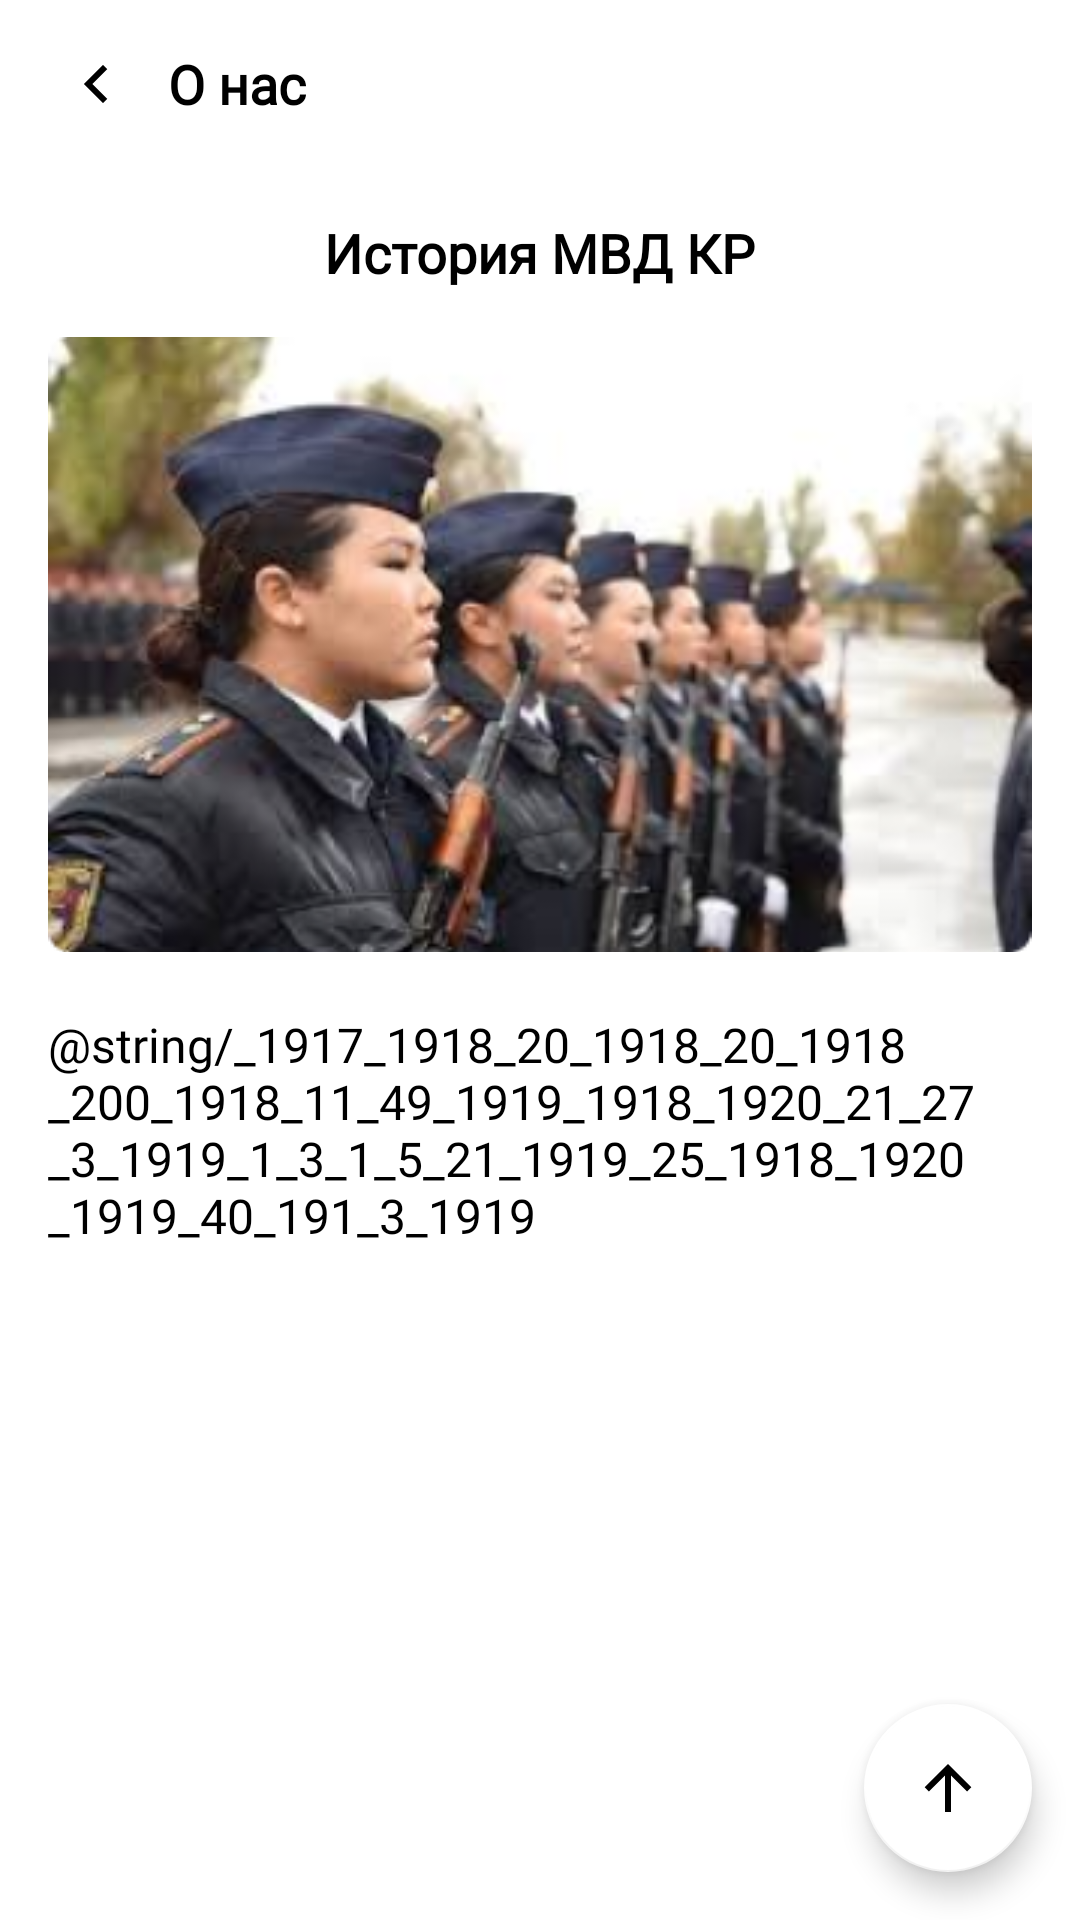

Icon bounding boxes for this 1080px×1920px phone screenshot, format (x1, y1, x2, y2):
arrow left: (84, 65, 107, 103)
arrow up: (869, 1764, 1032, 1872)
